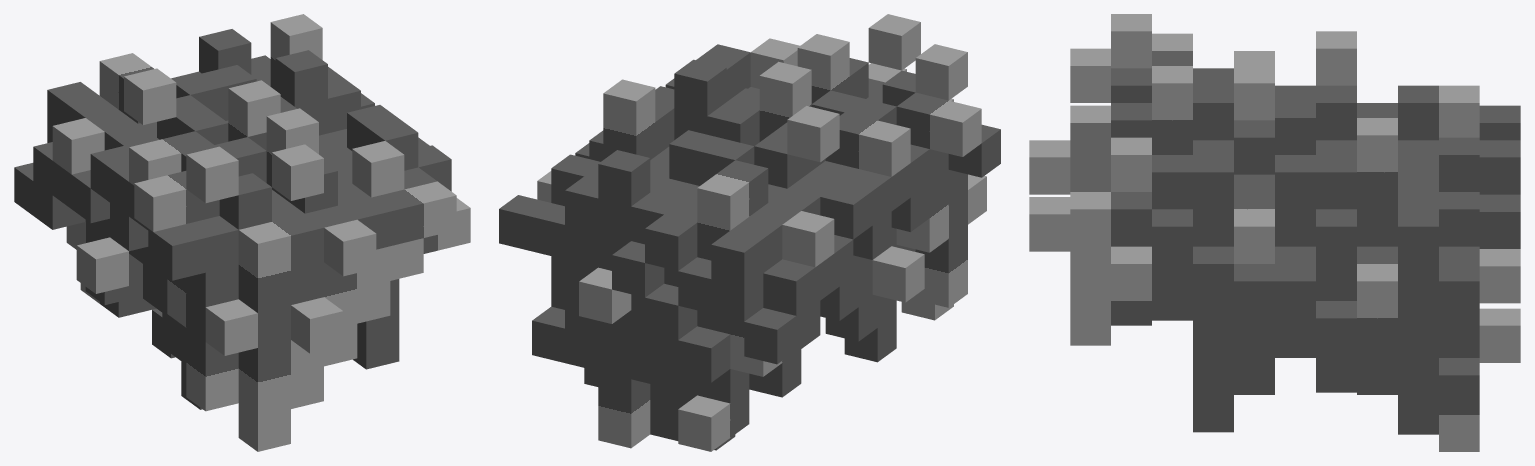
Rendered from wlos4_v2.dae.
3 renders of one model, left to right at view 1: azimuth 30°, elevation 25°; view 2: azimuth 150°, elevation 25°; view 3: azimuth 270°, elevation 25°, orthographic. The views are drawn at different scales.
Parts seen in each view (by area): view 1: Content.001; view 2: Content.001; view 3: Content.001.
Part boxes in pixels (x1,y1,x2,y2): Content.001: [14, 14, 470, 451]; Content.001: [499, 14, 1000, 451]; Content.001: [1029, 14, 1520, 451].
Size of the model in its own units: 10.59 by 12.71 by 9.53.
1 material, 1 textured.
